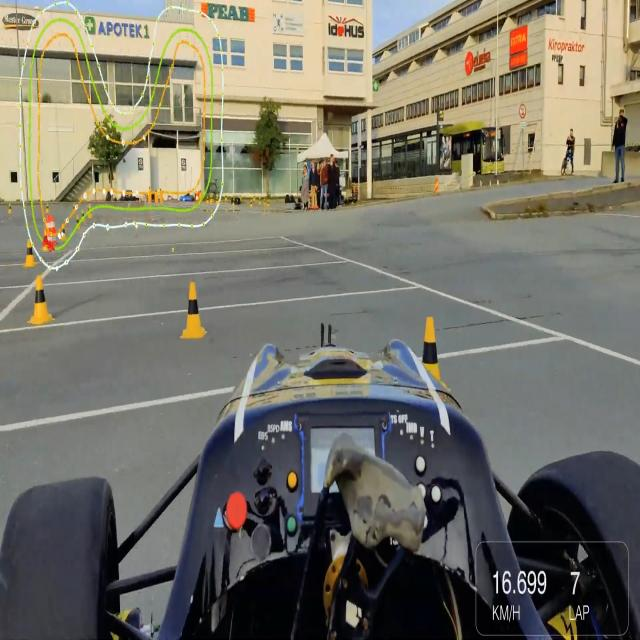large_orange_cone: (44, 217, 52, 251), (50, 215, 56, 248)
yellow_cone: (406, 317, 451, 442), (179, 279, 208, 348), (28, 275, 54, 328), (23, 238, 37, 270), (42, 228, 49, 254), (59, 223, 68, 241), (80, 208, 86, 224), (87, 206, 93, 221), (7, 202, 13, 216), (45, 202, 50, 215), (76, 216, 79, 233)
